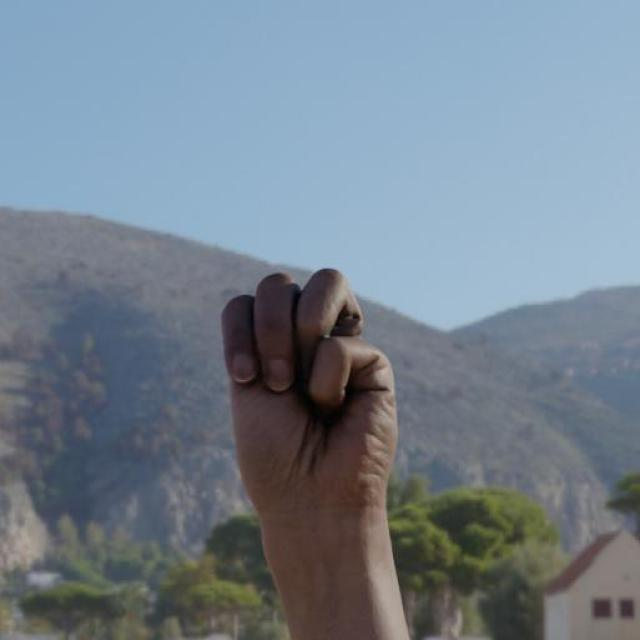M: (218, 262, 406, 518)
